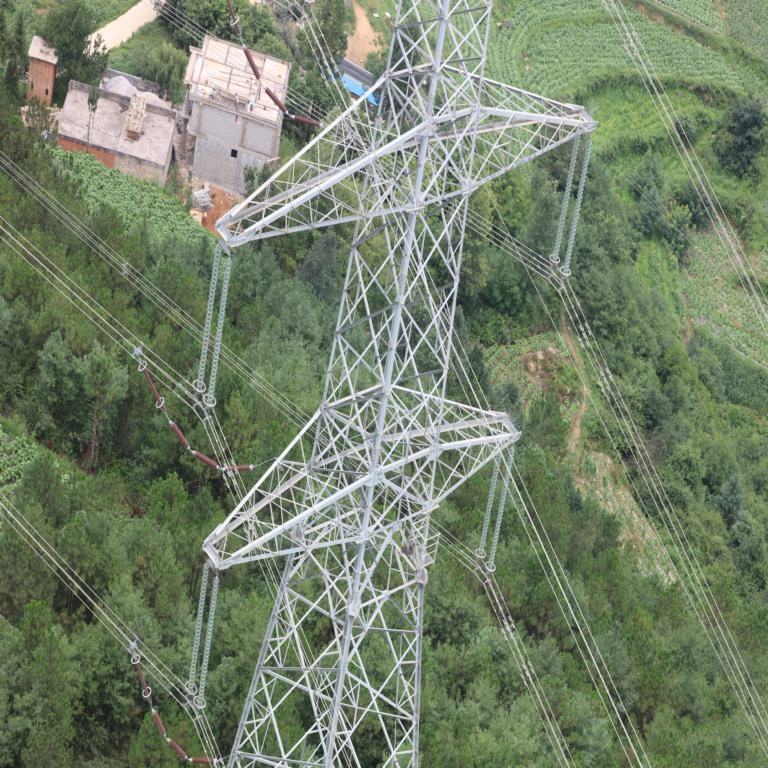nest: (402, 543, 415, 556)
